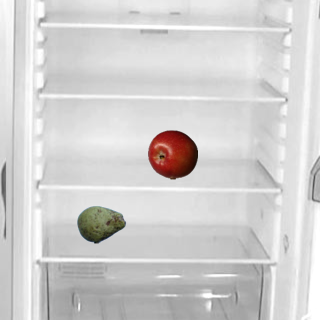Apple Braeburn: (147, 129, 197, 179)
Pear Stone: (76, 199, 126, 249)
